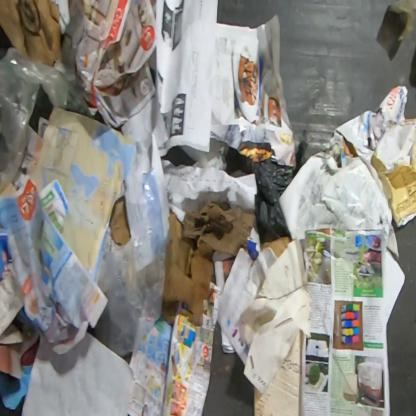cardboard: (162, 197, 256, 328), (334, 84, 408, 199), (251, 329, 302, 415), (0, 0, 65, 67), (372, 137, 415, 231), (109, 196, 130, 246), (260, 230, 292, 259)
rigid_plastic: (388, 0, 415, 44)
soft_plastic: (93, 167, 170, 360), (0, 43, 70, 196), (235, 152, 294, 243)
